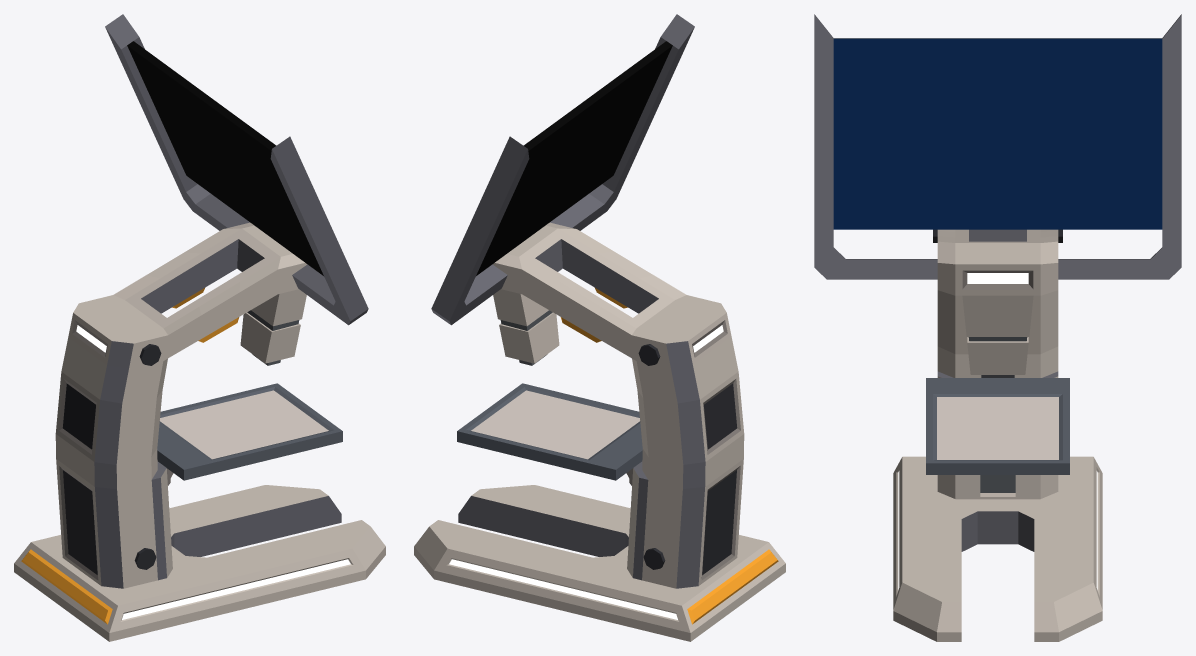
File: SM_Microscope.glb
3 renders of one model, left to right at view 1: azimuth 30°, elevation 25°; view 2: azimuth 150°, elevation 25°; view 3: azimuth 270°, elevation 25°, orthographic. The views are drawn at different scales.
Visible parts, largest first — view 1: SM_Microscope; view 2: SM_Microscope; view 3: SM_Microscope.
Part boxes in pixels (bbox=[...]): SM_Microscope: bbox=[14, 14, 385, 641]; SM_Microscope: bbox=[414, 14, 785, 641]; SM_Microscope: bbox=[814, 14, 1181, 641].
Size of the model in its own units: 0.3074 by 0.4922 by 0.3.
2 materials, 1 textured.
